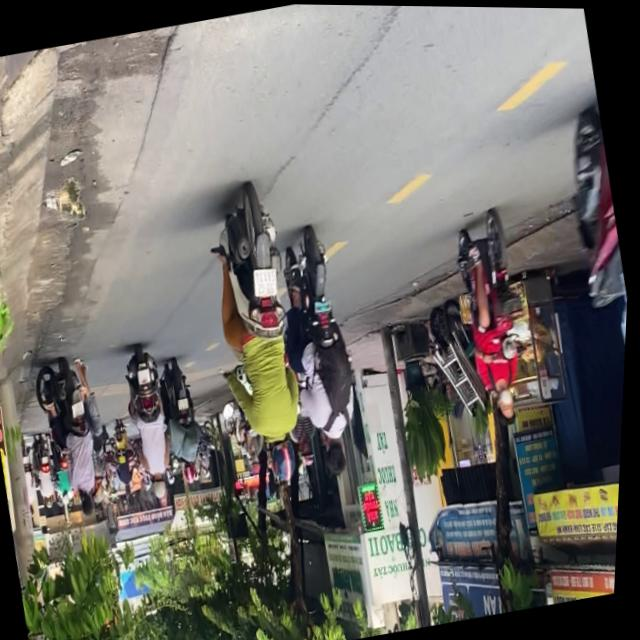helmet: (267, 433, 303, 483), (155, 475, 173, 500)
licenseplate: (190, 180, 330, 490), (266, 221, 382, 482), (442, 204, 552, 427), (29, 350, 124, 526), (116, 342, 189, 504)
motorcyclist: (324, 431, 356, 476), (497, 384, 522, 421), (81, 490, 101, 518)
nohelmet: (252, 265, 282, 298), (140, 367, 155, 384), (74, 401, 89, 417)
